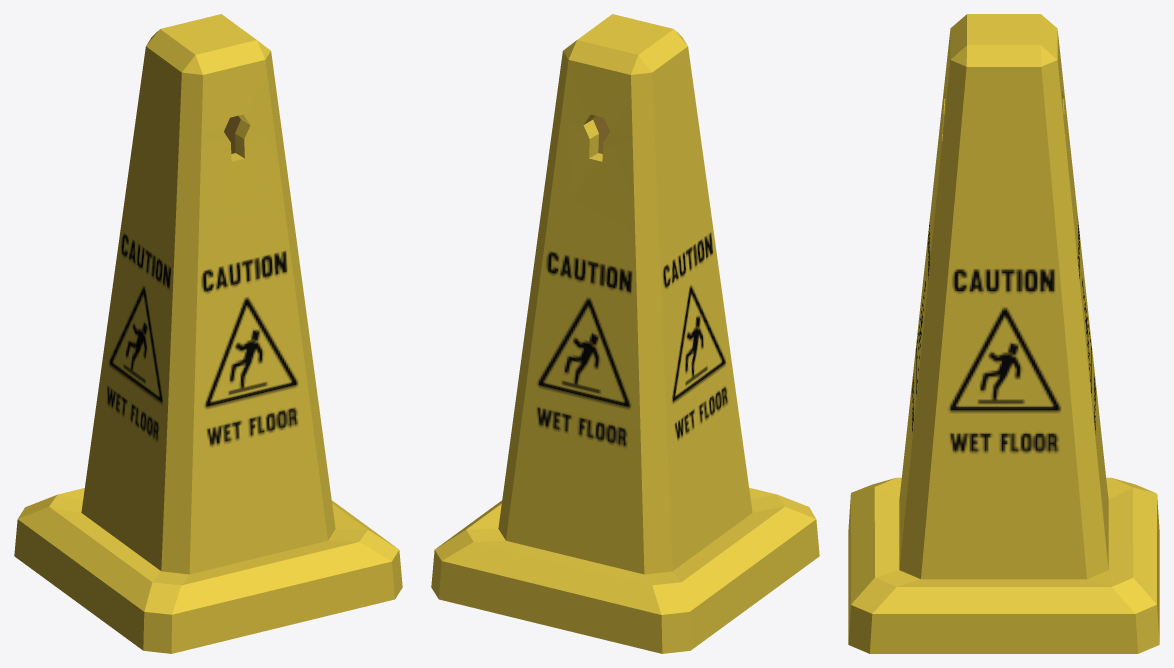
The model's file is SM_Prop_Safety_Cone_01.obj.
The picture shows the model from 3 angles, left to right: view 1: azimuth 30°, elevation 25°; view 2: azimuth 150°, elevation 25°; view 3: azimuth 270°, elevation 25°; orthographic projection. The views are drawn at different scales.
Visible parts, largest first — view 1: SM_Prop_Safety_Cone_01_0; view 2: SM_Prop_Safety_Cone_01_0; view 3: SM_Prop_Safety_Cone_01_0.
Part boxes in pixels (left/top/right/bottom): SM_Prop_Safety_Cone_01_0: left=14, top=14, right=402, bottom=653; SM_Prop_Safety_Cone_01_0: left=431, top=14, right=819, bottom=653; SM_Prop_Safety_Cone_01_0: left=848, top=14, right=1159, bottom=653.
Bounding box in the file's own units: 0.3809 × 0.7542 × 0.3809.
1 material, 1 textured.
